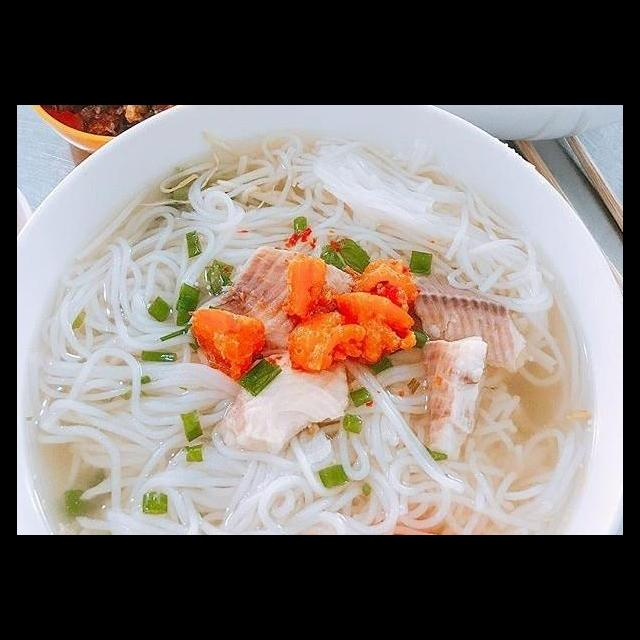bun: (34, 192, 200, 535), (44, 433, 602, 533), (275, 139, 562, 304)
bun ca: (17, 135, 623, 535)
ca: (171, 233, 369, 352), (402, 276, 536, 379), (415, 327, 499, 464), (243, 358, 349, 448)
tom: (274, 245, 425, 379), (184, 306, 269, 386)
